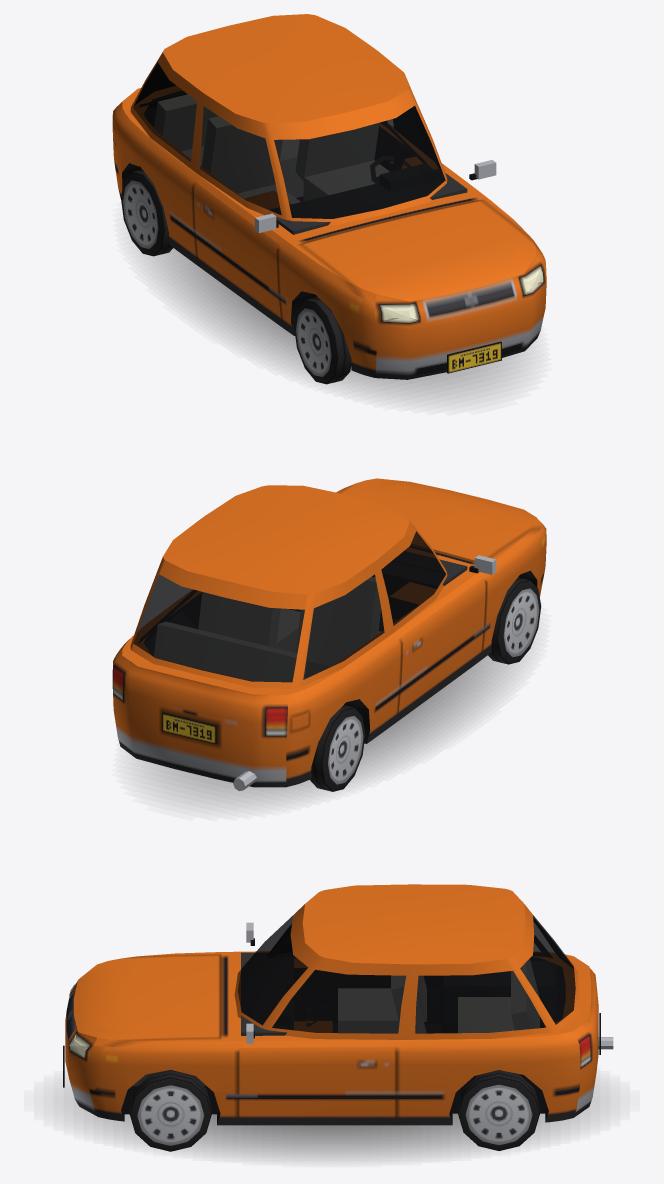
The model's file is bombom.glb.
3 views of the same model, one above another, from view 1: azimuth 30°, elevation 25°; view 2: azimuth 150°, elevation 25°; view 3: azimuth 270°, elevation 25° (orthographic). The views are drawn at different scales.
Parts seen in each view (by area): view 1: Carroceria, Interior, Capo_malha, Porta_D_malha, Sombra, Roda_DD, Roda_TD, Porta_E_malha; view 2: Carroceria, Tampa_malha, Interior, Porta_D_malha, Sombra, Capo_malha, Roda_TD, Roda_DD, Lanterna; view 3: Carroceria, Porta_E_malha, Interior, Capo_malha, Sombra, Tampa_malha, Roda_DE, Roda_TE.
Boxes of the visible parts, x1,y1,x2,y2 form: Carroceria: [112, 14, 546, 379]; Interior: [140, 91, 467, 296]; Capo_malha: [300, 200, 542, 302]; Porta_D_malha: [193, 98, 286, 317]; Sombra: [140, 248, 526, 400]; Roda_DD: [294, 297, 351, 384]; Roda_TD: [121, 169, 172, 256]; Porta_E_malha: [393, 78, 496, 180]; Carroceria: [112, 481, 546, 791]; Tampa_malha: [125, 560, 307, 765]; Interior: [139, 551, 467, 681]; Porta_D_malha: [384, 521, 496, 712]; Sombra: [138, 656, 517, 806]; Capo_malha: [338, 478, 542, 560]; Roda_TD: [310, 705, 365, 791]; Roda_DD: [488, 577, 541, 664]; Lanterna: [113, 669, 285, 733]; Carroceria: [63, 884, 613, 1125]; Porta_E_malha: [238, 957, 396, 1116]; Interior: [132, 935, 564, 1086]; Capo_malha: [80, 954, 220, 1046]; Sombra: [63, 1088, 600, 1158]; Tampa_malha: [512, 904, 600, 1088]; Roda_DE: [129, 1070, 211, 1151]; Roda_TE: [458, 1070, 539, 1150].
Size of the model in its own units: 2.21 by 1.38 by 4.34.
12 materials, 6 textured.
